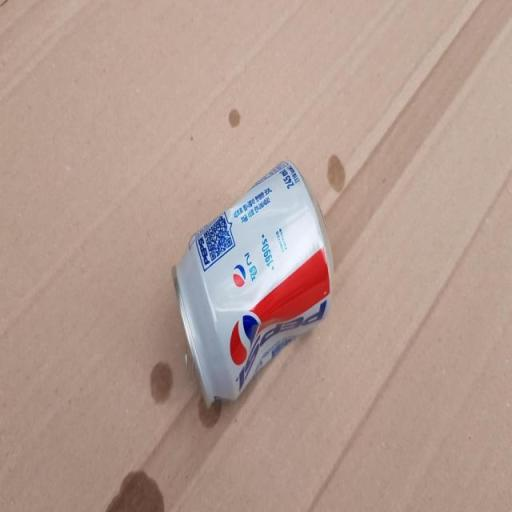metal: (157, 152, 346, 428)
